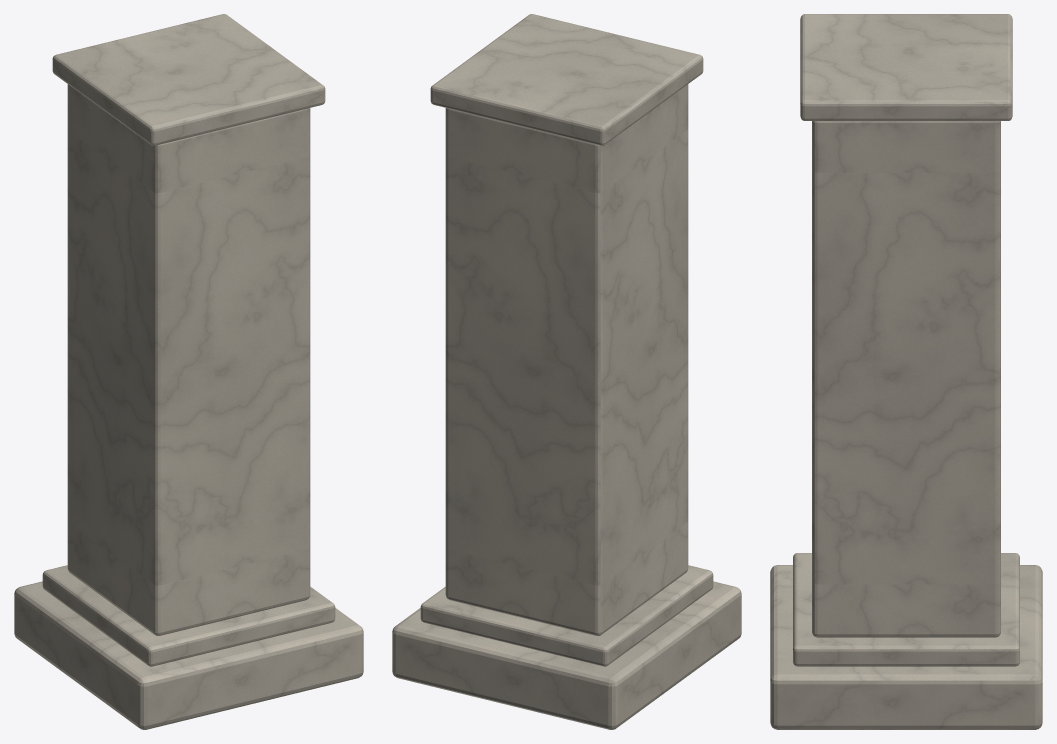
Rendered from statue.glb.
3 renders of one model, left to right at view 1: azimuth 30°, elevation 25°; view 2: azimuth 150°, elevation 25°; view 3: azimuth 270°, elevation 25°, orthographic. The views are drawn at different scales.
Visible parts, largest first — view 1: Statue; view 2: Statue; view 3: Statue.
Boxes of the visible parts, x1,y1,x2,y2 form: Statue: (14,14,363,729); Statue: (392,14,741,729); Statue: (770,14,1042,729).
Size of the model in its own units: 0.72 by 1.8 by 0.72.
Materials: 1 (1 with a texture image).
